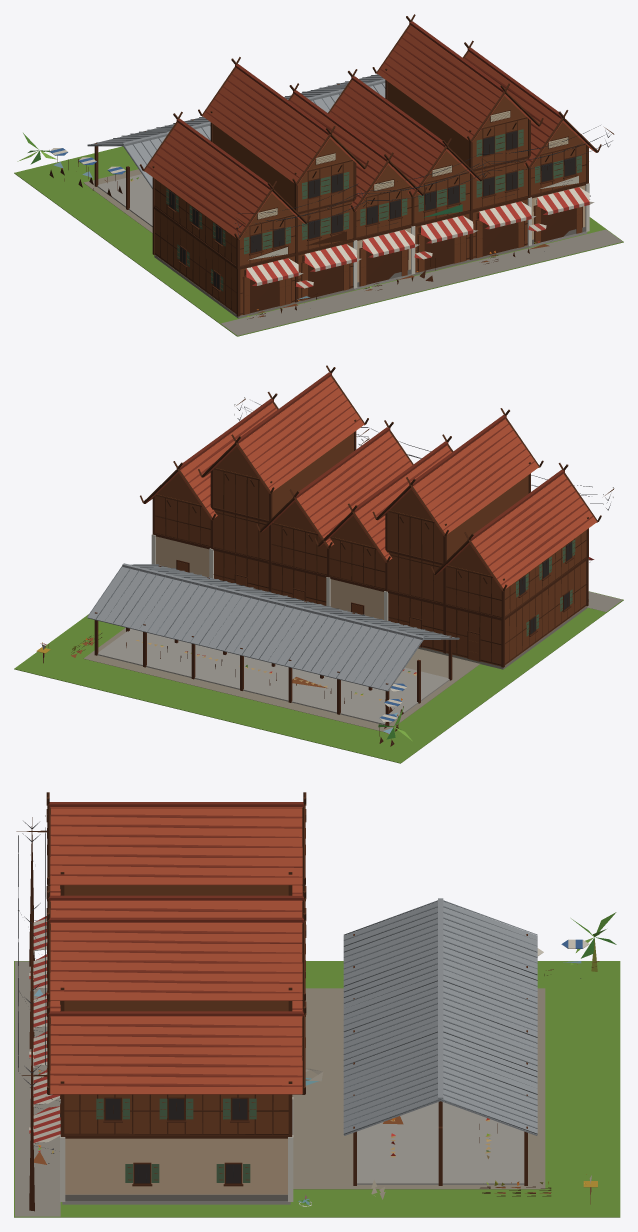
Rendered from shop_5.glb.
3 views of the same model, one above another, from view 1: azimuth 30°, elevation 25°; view 2: azimuth 150°, elevation 25°; view 3: azimuth 270°, elevation 25° (orthographic). The views are drawn at different scales.
Parts seen in each view (by area): view 1: body, windows; view 2: body; view 3: body, windows.
Part boxes in pixels (x1,y1,x2,y2): body: (14,14,623,336); windows: (169,131,575,289); body: (14,365,623,763); body: (14,792,620,1217); windows: (52,1098,247,1183).
Size of the model in its own units: 32.34 by 13.82 by 32.1.
